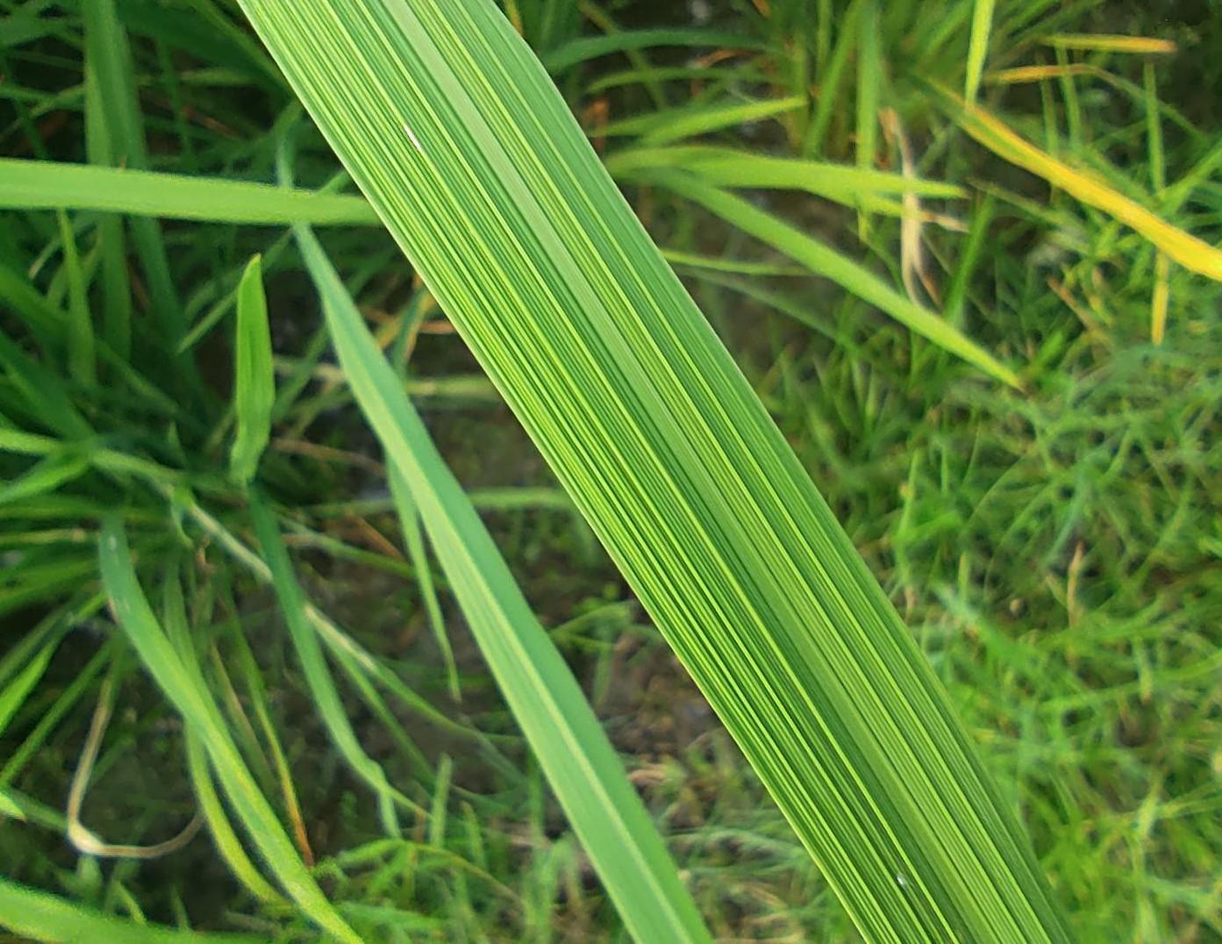Healthy: (244, 0, 1076, 943)
